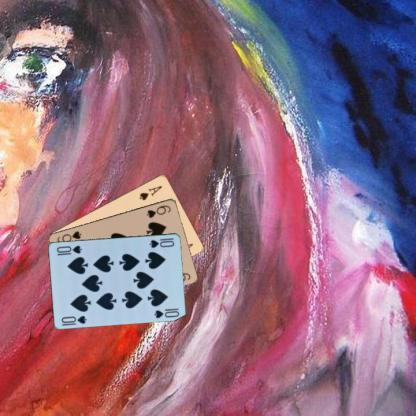10s: (146, 235, 176, 249), (59, 313, 88, 325)
6s: (144, 202, 172, 219)
As: (136, 183, 164, 202)
